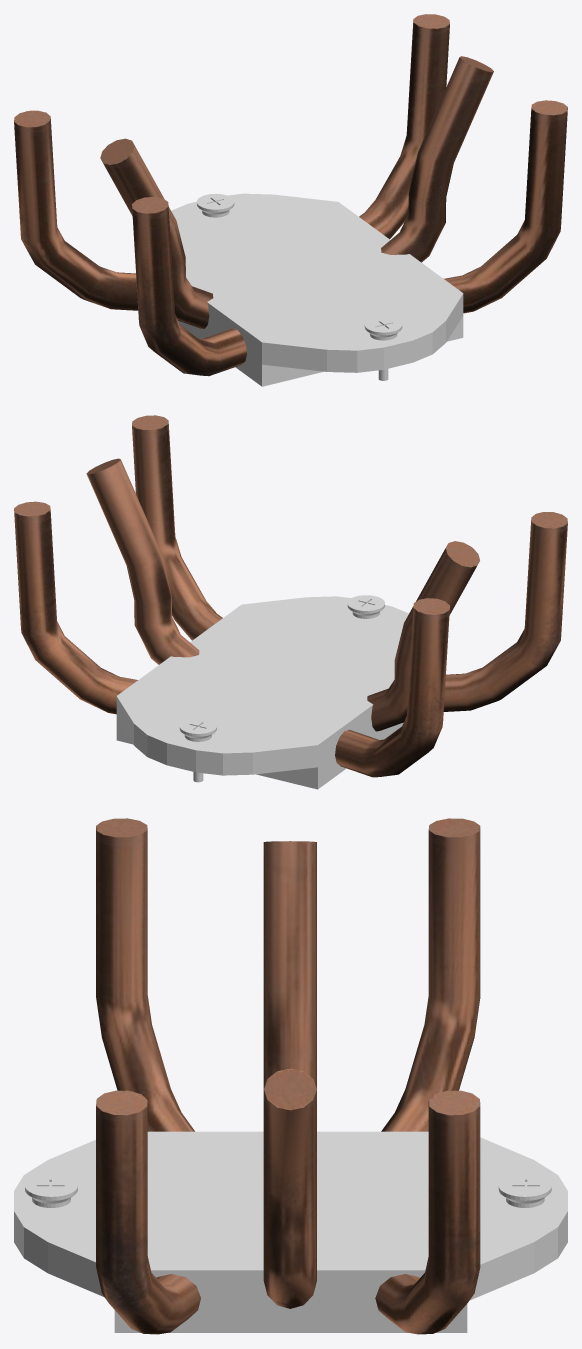
The picture shows the model from 3 angles, top to bottom: view 1: azimuth 30°, elevation 25°; view 2: azimuth 150°, elevation 25°; view 3: azimuth 270°, elevation 25°; orthographic projection. The views are drawn at different scales.
Visible parts, largest first — view 1: defaultMaterial.002, basis; view 2: defaultMaterial.002, basis; view 3: defaultMaterial.002, basis.
Boxes of the visible parts, x1,y1,x2,y2 form: defaultMaterial.002: (14,14,567,376); basis: (171,193,463,386); defaultMaterial.002: (14,415,567,777); basis: (116,595,408,789); defaultMaterial.002: (96,818,480,1334); basis: (14,1131,567,1332).
Bounding box in the file's own units: 3.36 × 1.62 × 2.65.
Materials: 2 (1 with a texture image).
